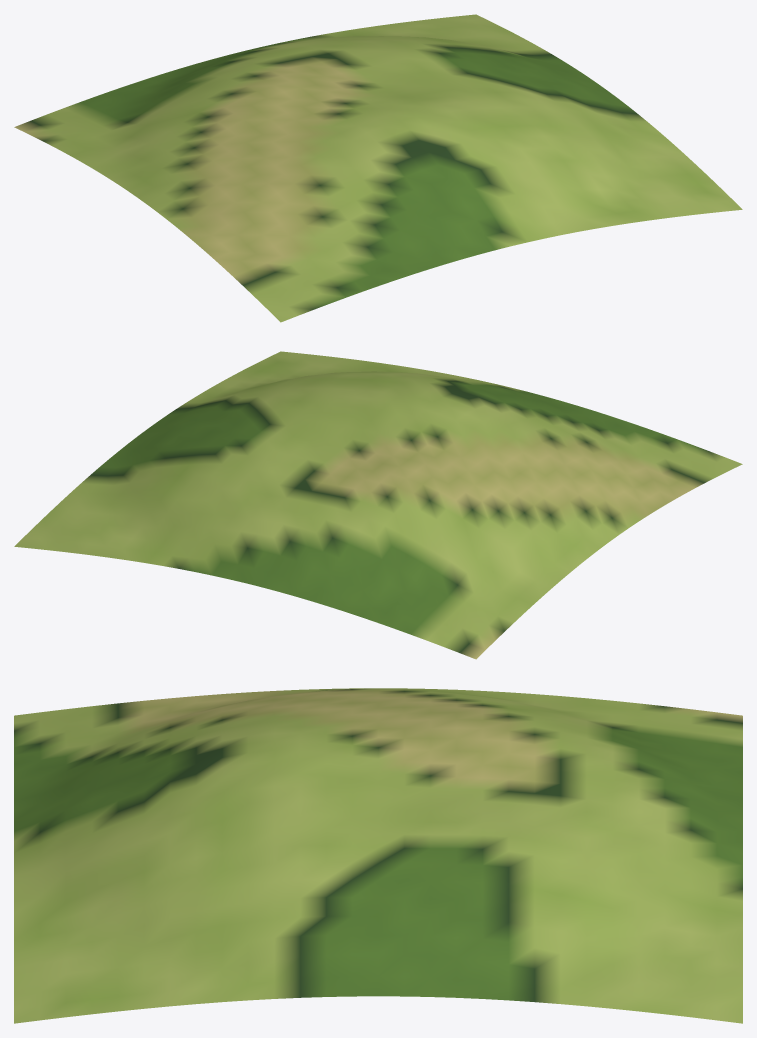
Rendered from meadow_hill.glb.
The picture shows the model from 3 angles, top to bottom: view 1: azimuth 30°, elevation 25°; view 2: azimuth 150°, elevation 25°; view 3: azimuth 270°, elevation 25°; orthographic projection. The views are drawn at different scales.
Parts seen in each view (by area): view 1: meadow_hill_mesh; view 2: meadow_hill_mesh; view 3: meadow_hill_mesh.
Boxes of the visible parts, box(x1,y1,x2,y2) form: meadow_hill_mesh: box(14, 14, 742, 322); meadow_hill_mesh: box(14, 351, 742, 659); meadow_hill_mesh: box(14, 688, 742, 1023).
Bounding box in the file's own units: 60 × 9.86 × 60.
